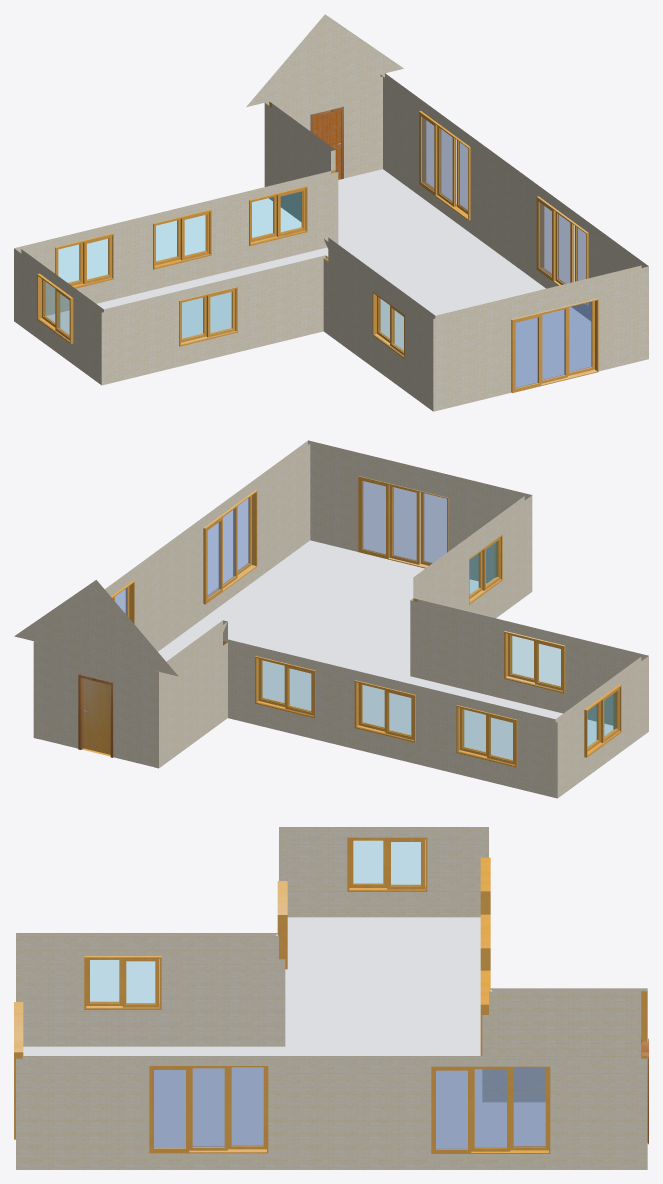
File: telhado46a.gltf
The picture shows the model from 3 angles, top to bottom: view 1: azimuth 30°, elevation 25°; view 2: azimuth 150°, elevation 25°; view 3: azimuth 270°, elevation 25°; orthographic projection. The views are drawn at different scales.
Parts seen in each view (by area): view 1: root; view 2: root; view 3: root.
Part boxes in pixels (x1,y1,x2,y2): root: [14, 14, 648, 411]; root: [14, 440, 648, 798]; root: [14, 827, 648, 1169].
Bounding box in the file's own units: 14.48 × 5.03 × 14.5.
Materials: 12 (6 with a texture image).
